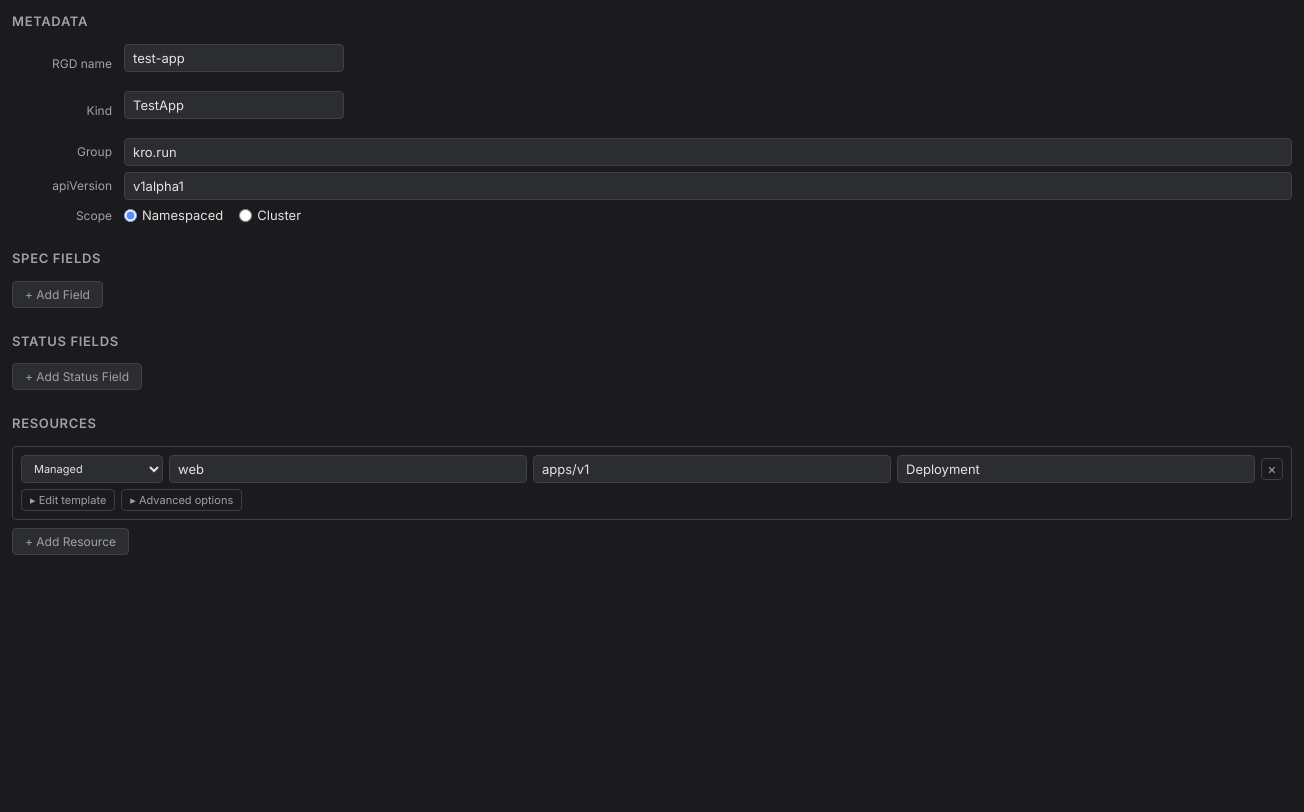
Test: Advanced options - includeWhen + readyWhen (US3+US4) › shows includeWhen input after clicking advanced expand
What coordinates should you click on to do the following:
click the button with test id "advanced-expand-res-0"
I would click on:
 (182, 500)
Its box is [121,489,242,511].
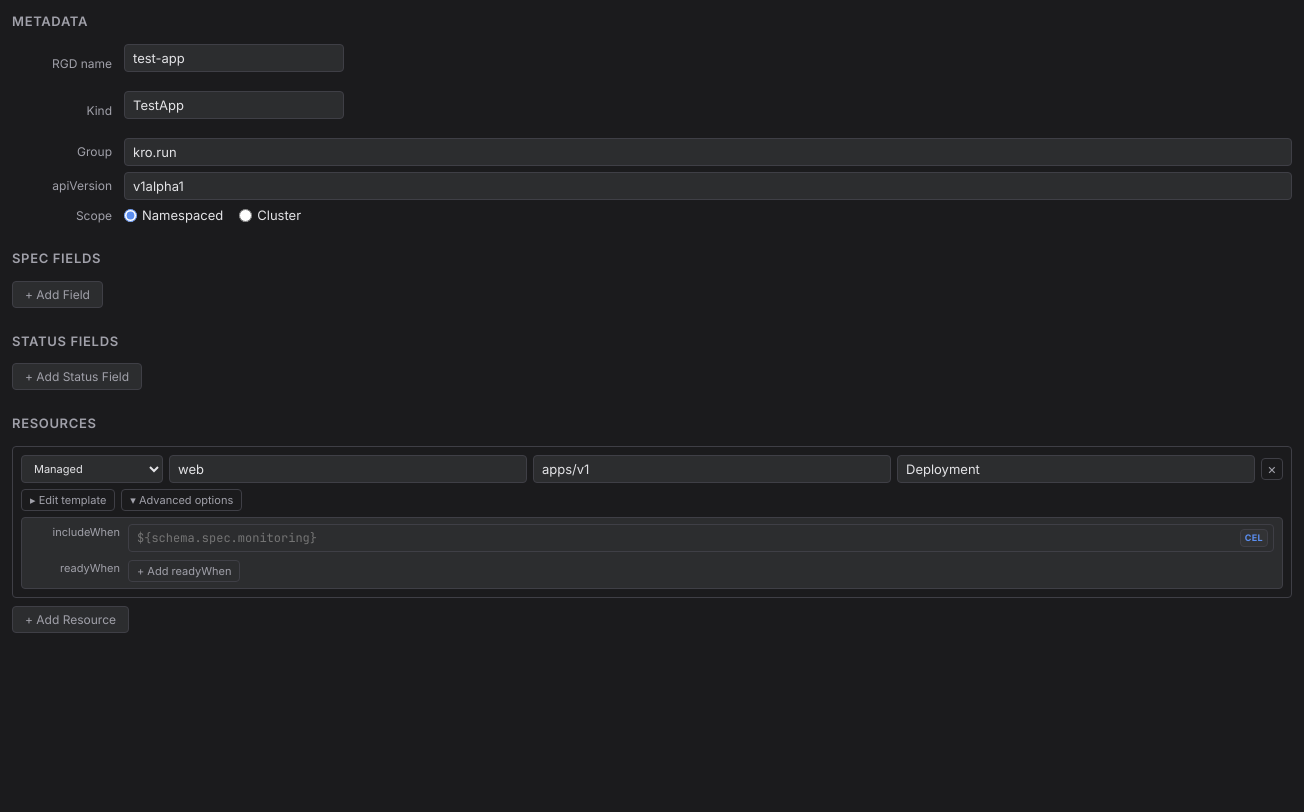
Check: the field with test id "resource-include-when-res-0" is shown, box [128,524,1274,552]
